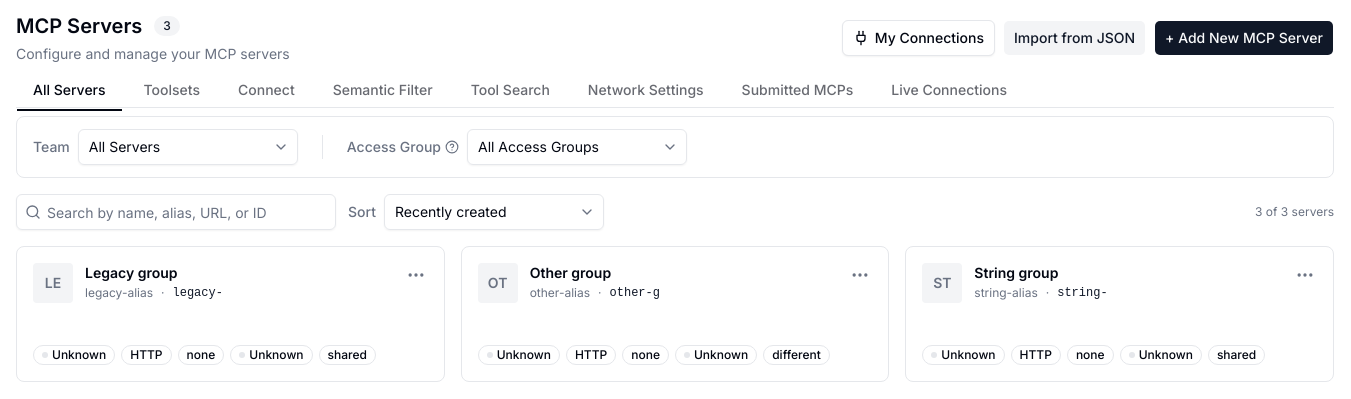
Scenario: MCPServers › filters servers by access group
Expected: the text "String group" is shown, [974, 264, 1058, 281]
What coordinates should you click on to do the following:
click the dropdown labelled "Access Group"
I would click on:
 (577, 147)
Its box is [467, 129, 687, 165].
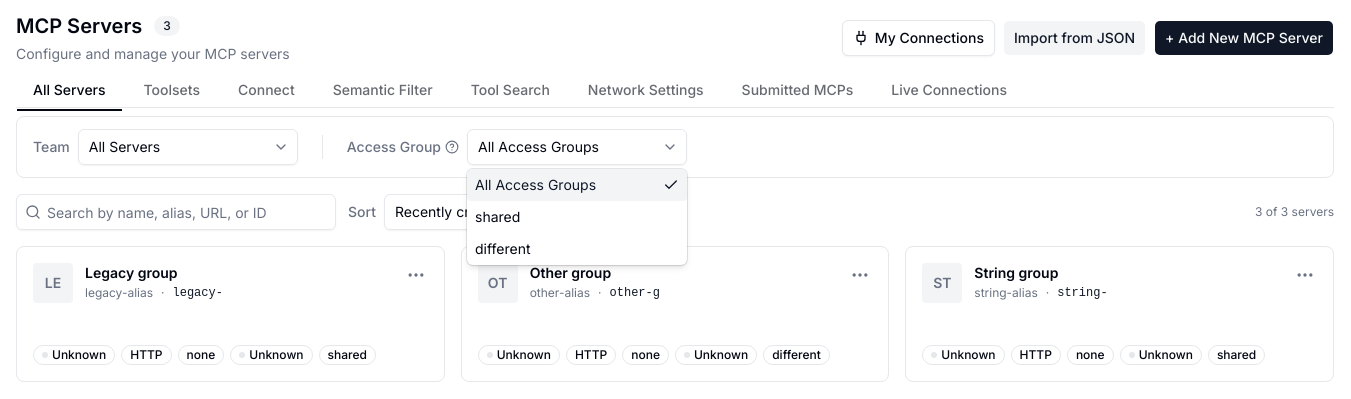
What coordinates should you click on to do the following:
click the option "shared"
I would click on:
 (498, 216)
Its box is [475, 208, 520, 225].
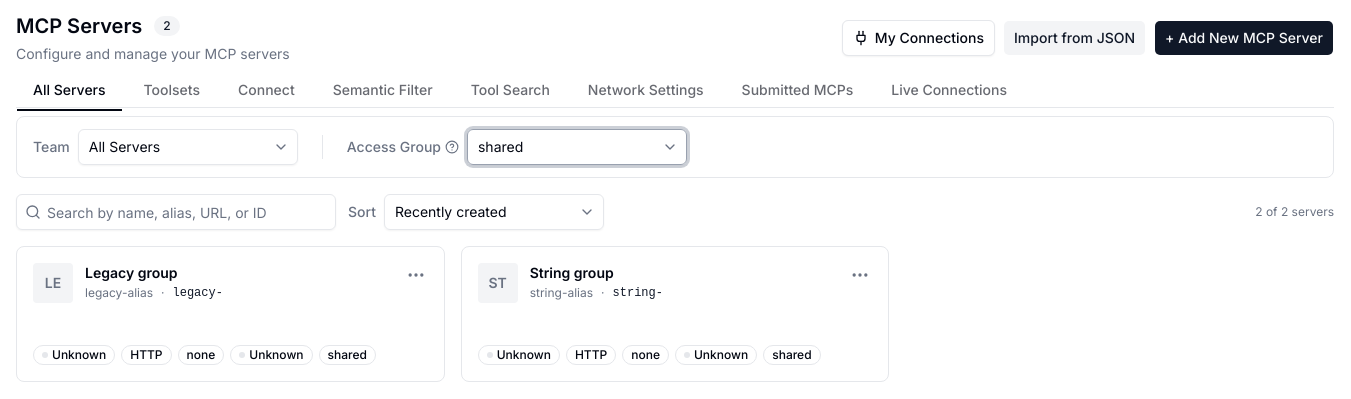
Expected: the text "String group" is shown, [530, 264, 614, 281]
Expected: the button "Other group" is gone
